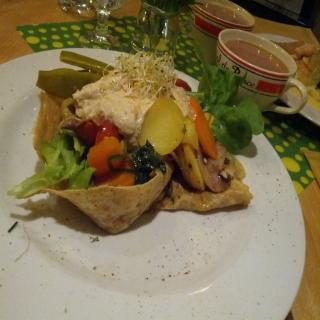Salad: (4, 47, 266, 196)
